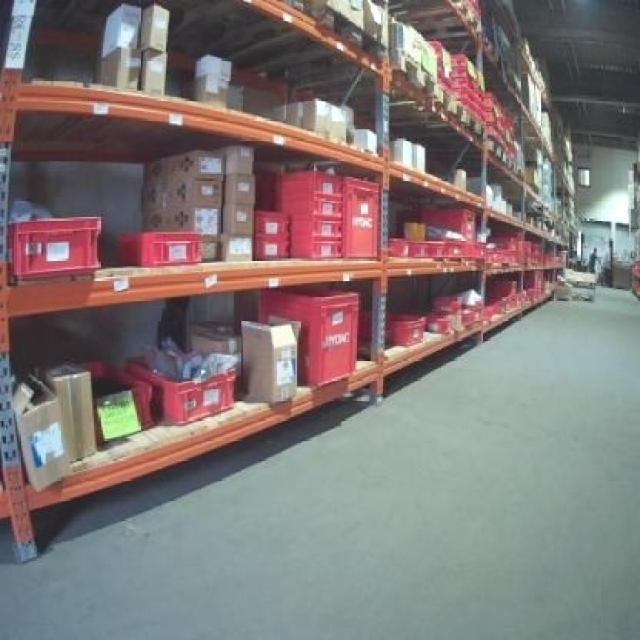floor: (0, 286, 637, 637)
pallets: (257, 288, 355, 383), (125, 357, 232, 422), (8, 215, 97, 278), (234, 317, 269, 398)
